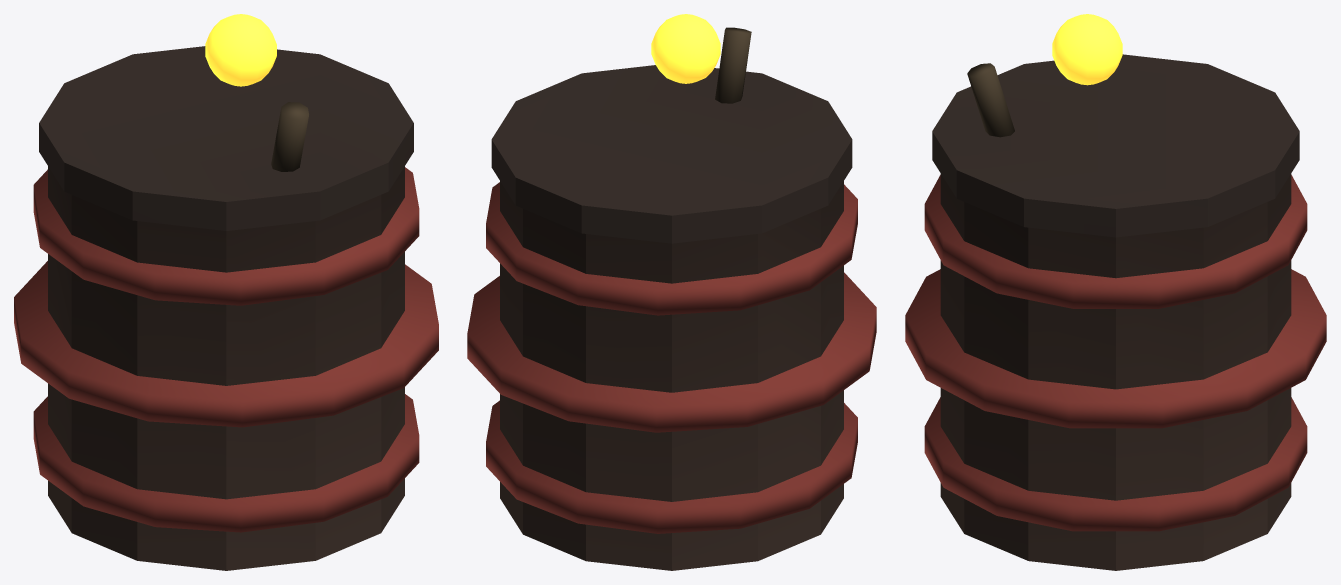
The model's file is barrel_bomb.glb.
3 views of the same model, side by side, from view 1: azimuth 30°, elevation 25°; view 2: azimuth 150°, elevation 25°; view 3: azimuth 270°, elevation 25° (orthographic). The views are drawn at different scales.
Parts seen in each view (by area): view 1: barrel_bomb; view 2: barrel_bomb; view 3: barrel_bomb.
Part boxes in pixels (x1,y1,x2,y2): barrel_bomb: [14, 14, 438, 570]; barrel_bomb: [467, 14, 876, 570]; barrel_bomb: [905, 14, 1326, 570].
Size of the model in its own units: 0.5745 by 0.74 by 0.5893.
